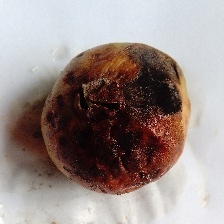guava: (0, 9, 201, 170)
